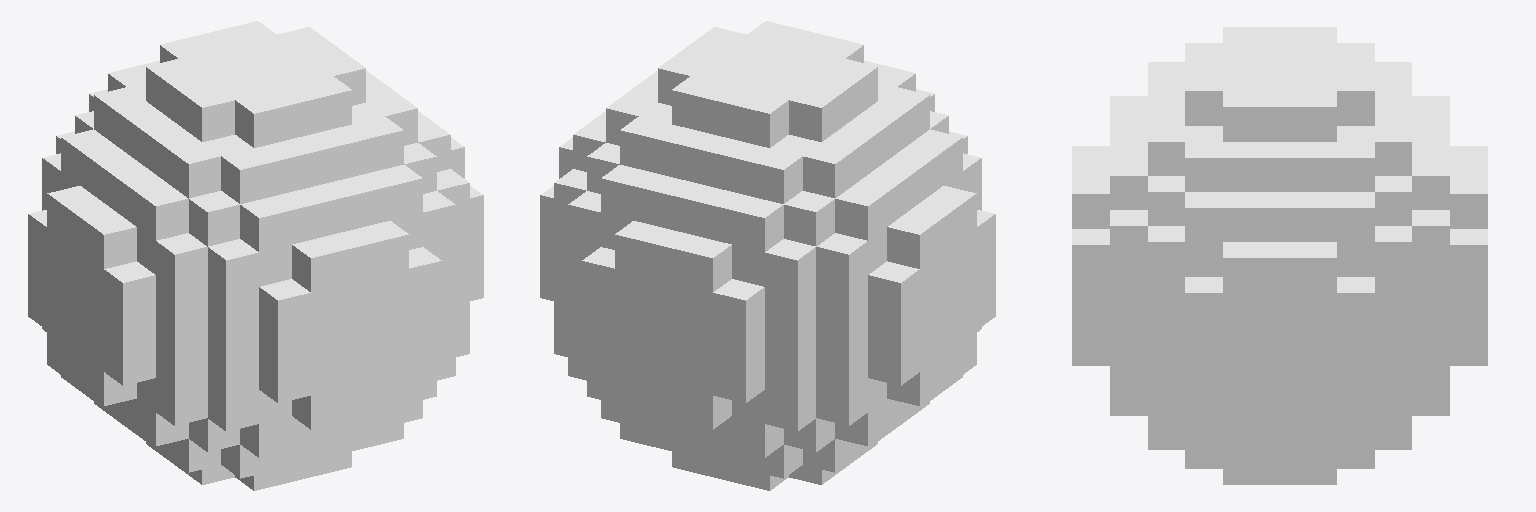
3 renders of one model, left to right at view 1: azimuth 30°, elevation 25°; view 2: azimuth 150°, elevation 25°; view 3: azimuth 270°, elevation 25°, orthographic.
Parts seen in each view (by area): view 1: object 1; view 2: object 1; view 3: object 1.
Boxes of the visible parts, x1,y1,x2,y2 form: object 1: [28, 21, 483, 490]; object 1: [540, 21, 995, 490]; object 1: [1072, 27, 1487, 484].
Size of the model in its own units: 1.1 by 1.1 by 1.1.
Materials: 1 (1 with a texture image).